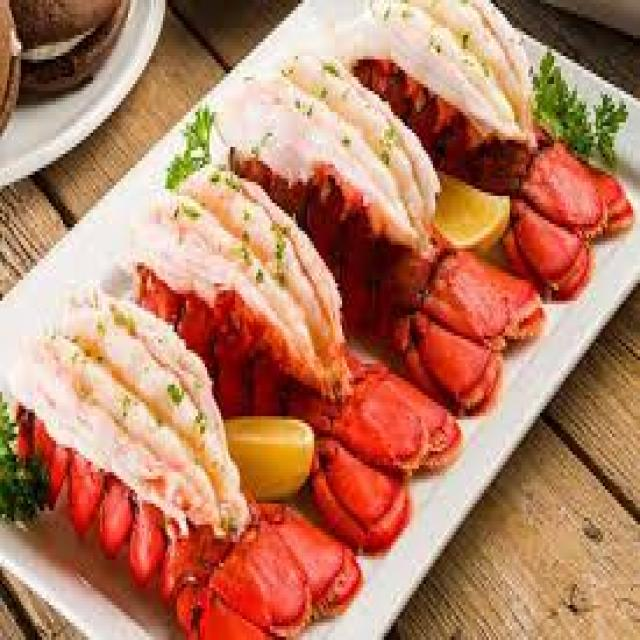Lemon: (228, 406, 312, 504), (439, 178, 511, 251)
Lobster Tail: (62, 470, 339, 640), (301, 352, 460, 517), (395, 250, 535, 399), (514, 128, 622, 300)
